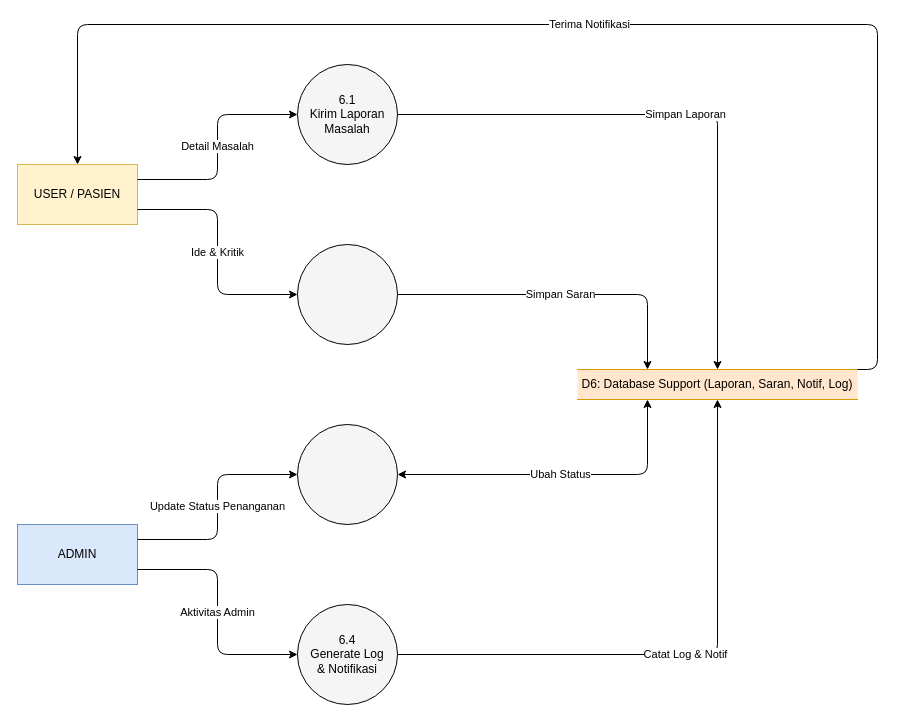
This 903x722 diagram has some shape labels left out. The centre of each missing label's shape, as x and y in pixels:
"6.2 Kirim Saran & Masukan" belongs at pixel 347 294.
"6.3 Tindaklanjuti Laporan" belongs at pixel 347 474.
